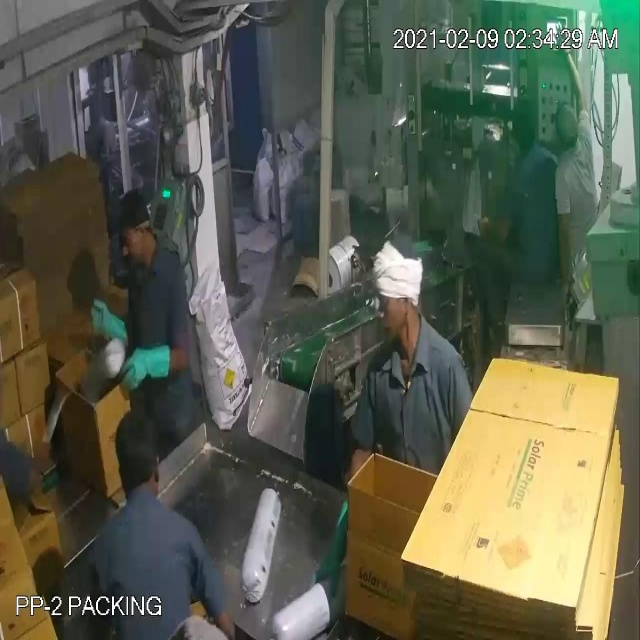Guantes: (302, 492, 356, 594), (114, 340, 182, 401), (88, 296, 137, 359)
